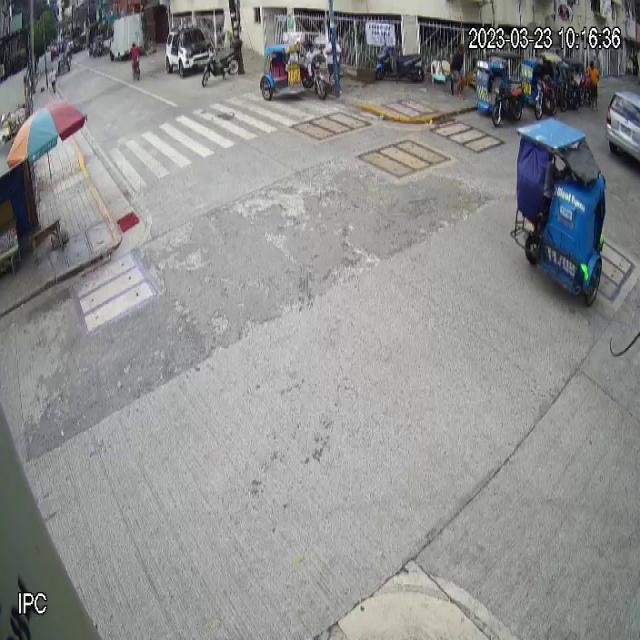Tricycle: (510, 116, 607, 308), (260, 32, 328, 102), (476, 52, 524, 128)
